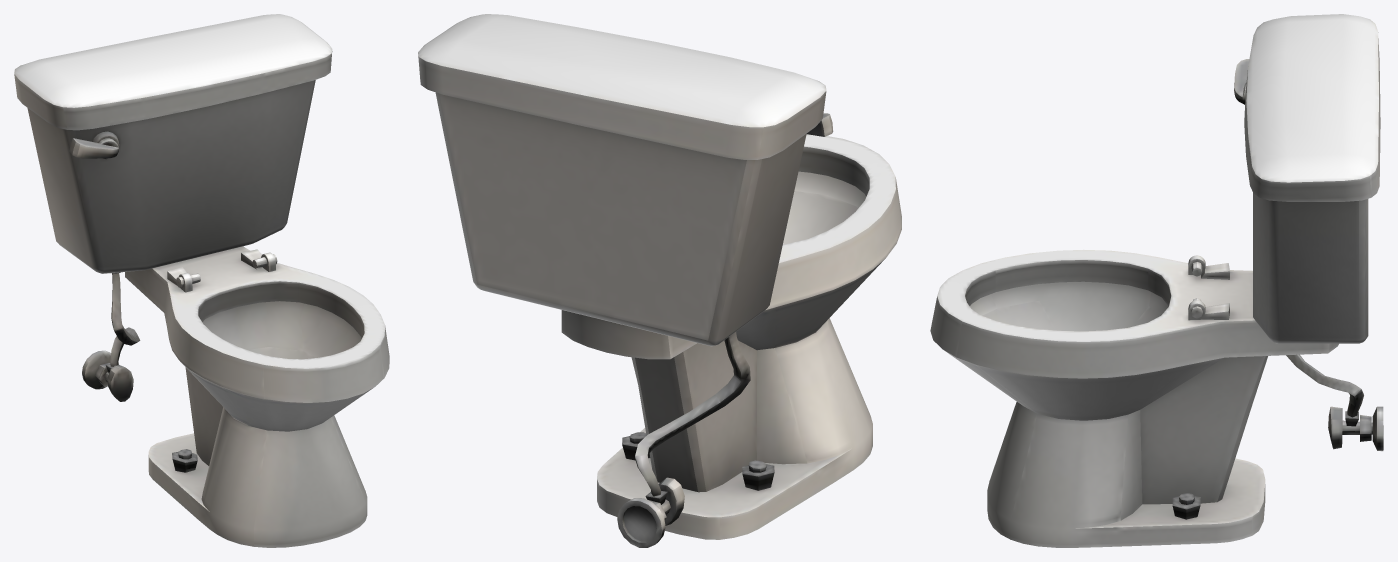
File: toilet_average.fbx
3 renders of one model, left to right at view 1: azimuth 30°, elevation 25°; view 2: azimuth 150°, elevation 25°; view 3: azimuth 270°, elevation 25°, orthographic. The views are drawn at different scales.
Visible parts, largest first — view 1: toilet average; view 2: toilet average; view 3: toilet average.
Part boxes in pixels (x1,y1,x2,y2): toilet average: [14, 14, 389, 547]; toilet average: [418, 14, 901, 547]; toilet average: [930, 14, 1383, 547].
Size of the model in its own units: 0.7252 by 0.9518 by 0.9107.
